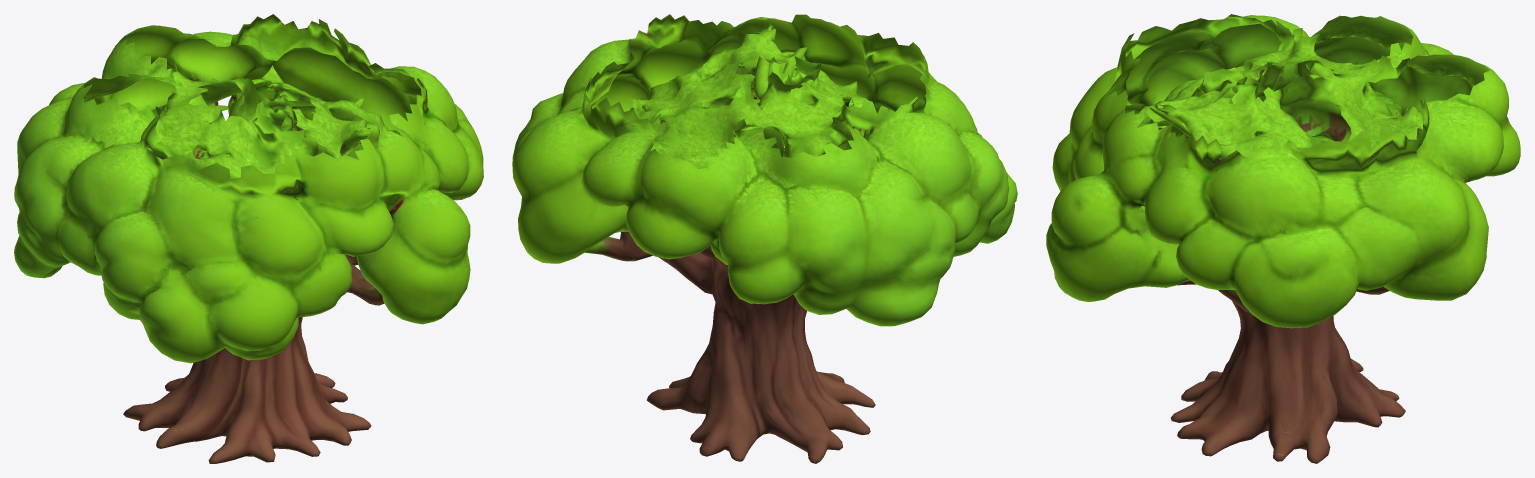
Rendered from oak_v4.glb.
The picture shows the model from 3 angles, left to right: view 1: azimuth 30°, elevation 25°; view 2: azimuth 150°, elevation 25°; view 3: azimuth 270°, elevation 25°; orthographic projection. The views are drawn at different scales.
Size of the model in its own units: 1.88 by 1.43 by 1.75.
1 material, 1 textured.
